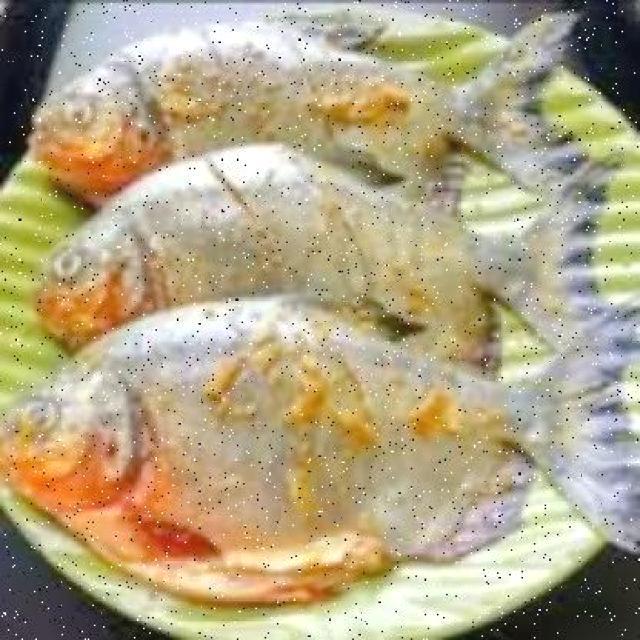ikan-pacu: (9, 303, 598, 577), (42, 162, 550, 348), (34, 13, 532, 187)
